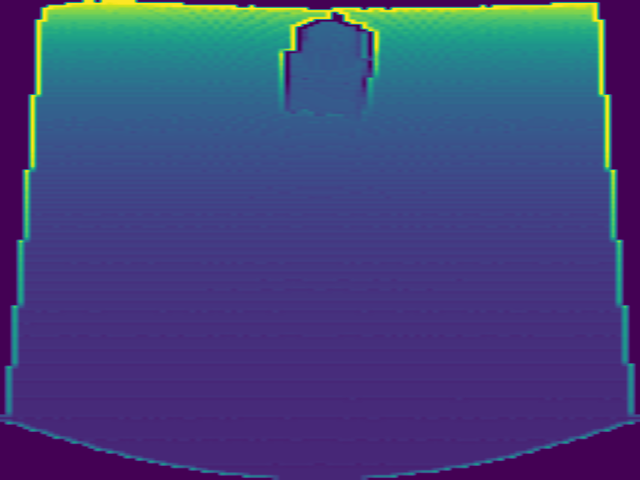car_0027: (274, 12, 381, 124)
